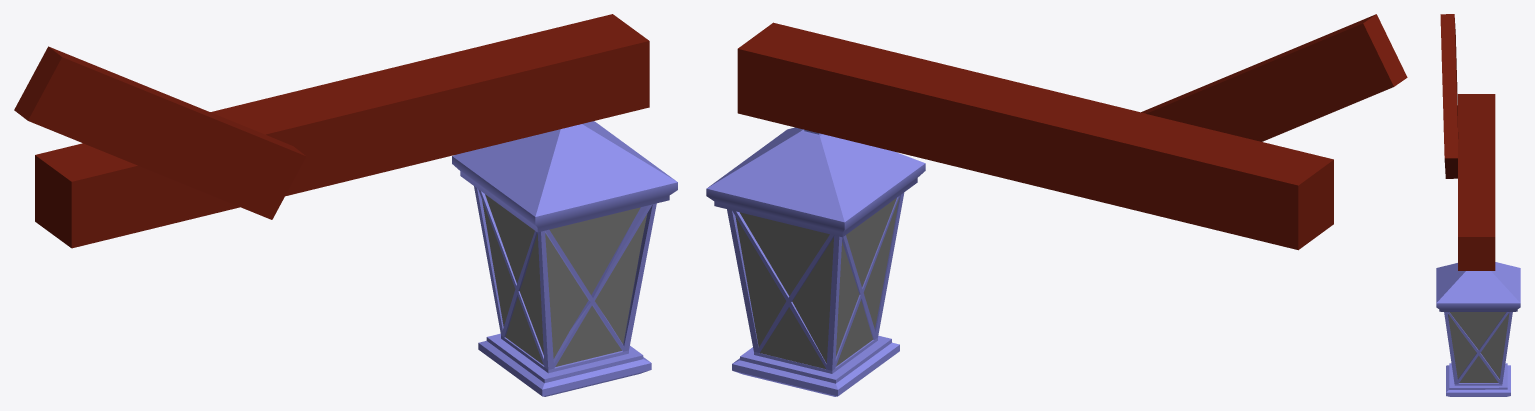
File: Street lamp version 2.fbx
The picture shows the model from 3 angles, left to right: view 1: azimuth 30°, elevation 25°; view 2: azimuth 150°, elevation 25°; view 3: azimuth 270°, elevation 25°; orthographic projection. The views are drawn at different scales.
Parts seen in each view (by area): view 1: Post001, Lantern001, Glass001; view 2: Post001, Lantern001, Glass001; view 3: Post001, Lantern001, Glass001.
Boxes of the visible parts, box(x1,y1,x2,y2) form: Post001: box(14, 14, 649, 248); Lantern001: box(452, 121, 677, 396); Glass001: box(482, 194, 647, 366); Post001: box(737, 14, 1407, 250); Lantern001: box(706, 127, 925, 396); Glass001: box(735, 198, 899, 368); Post001: box(1440, 14, 1495, 270); Lantern001: box(1436, 262, 1520, 396); Glass001: box(1448, 312, 1509, 382).
Bounding box in the file's own units: 2.03 × 1.4 × 0.4532.
